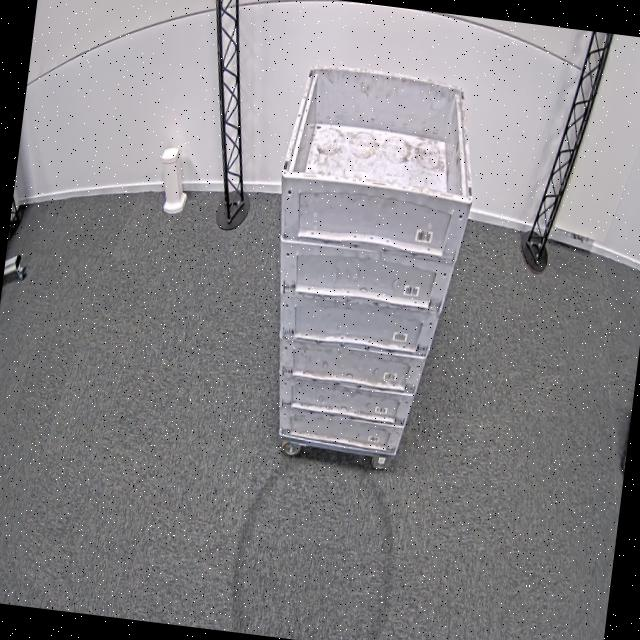Roll3G: (277, 58, 488, 207)
